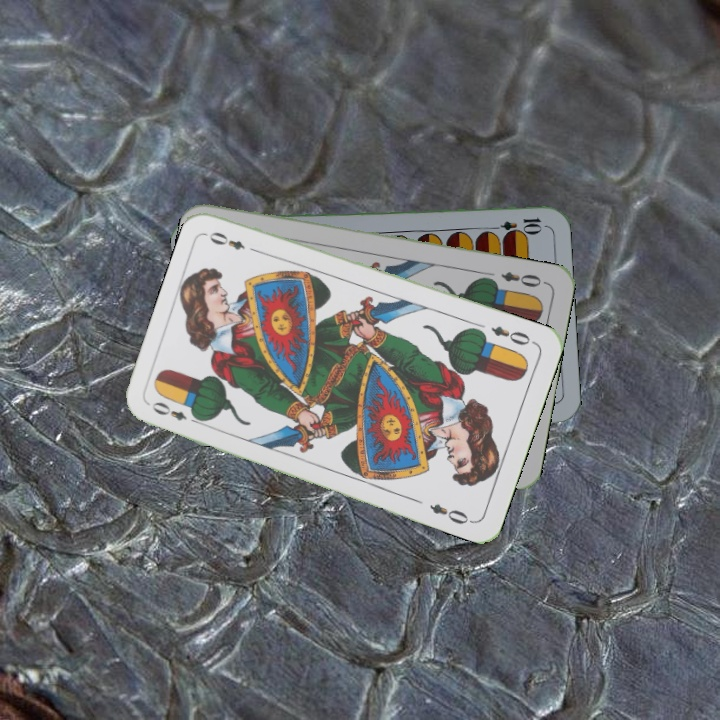E10: (485, 214, 544, 235)
EO: (148, 397, 204, 427), (487, 321, 538, 348), (497, 267, 544, 290)
